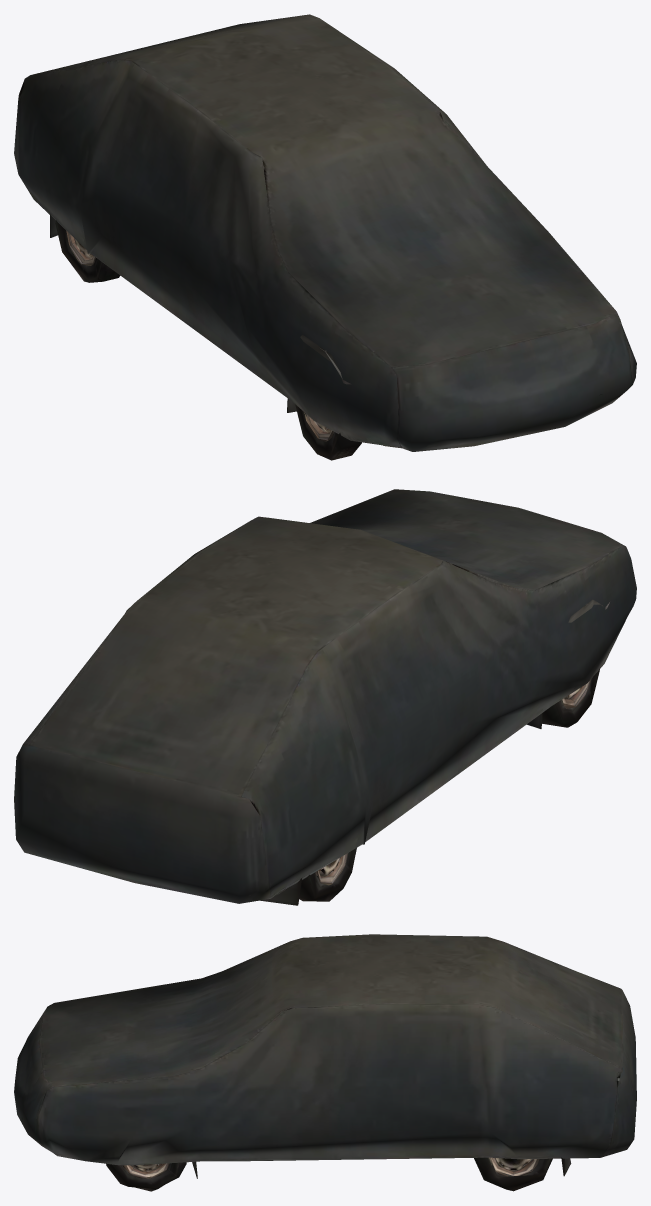
The model's file is covered_car.glb.
3 views of the same model, one above another, from view 1: azimuth 30°, elevation 25°; view 2: azimuth 150°, elevation 25°; view 3: azimuth 270°, elevation 25° (orthographic). The views are drawn at different scales.
Parts seen in each view (by area): view 1: covered_car_wheel_01; view 2: covered_car_wheel_01; view 3: covered_car_wheel_01.
Part boxes in pixels (box(x1,y1,x2,y2)): covered_car_wheel_01: box(14, 14, 636, 460); covered_car_wheel_01: box(14, 489, 636, 905); covered_car_wheel_01: box(14, 934, 636, 1191).
Size of the model in its own units: 1.79 by 1.41 by 4.38.
1 material, 1 textured.
